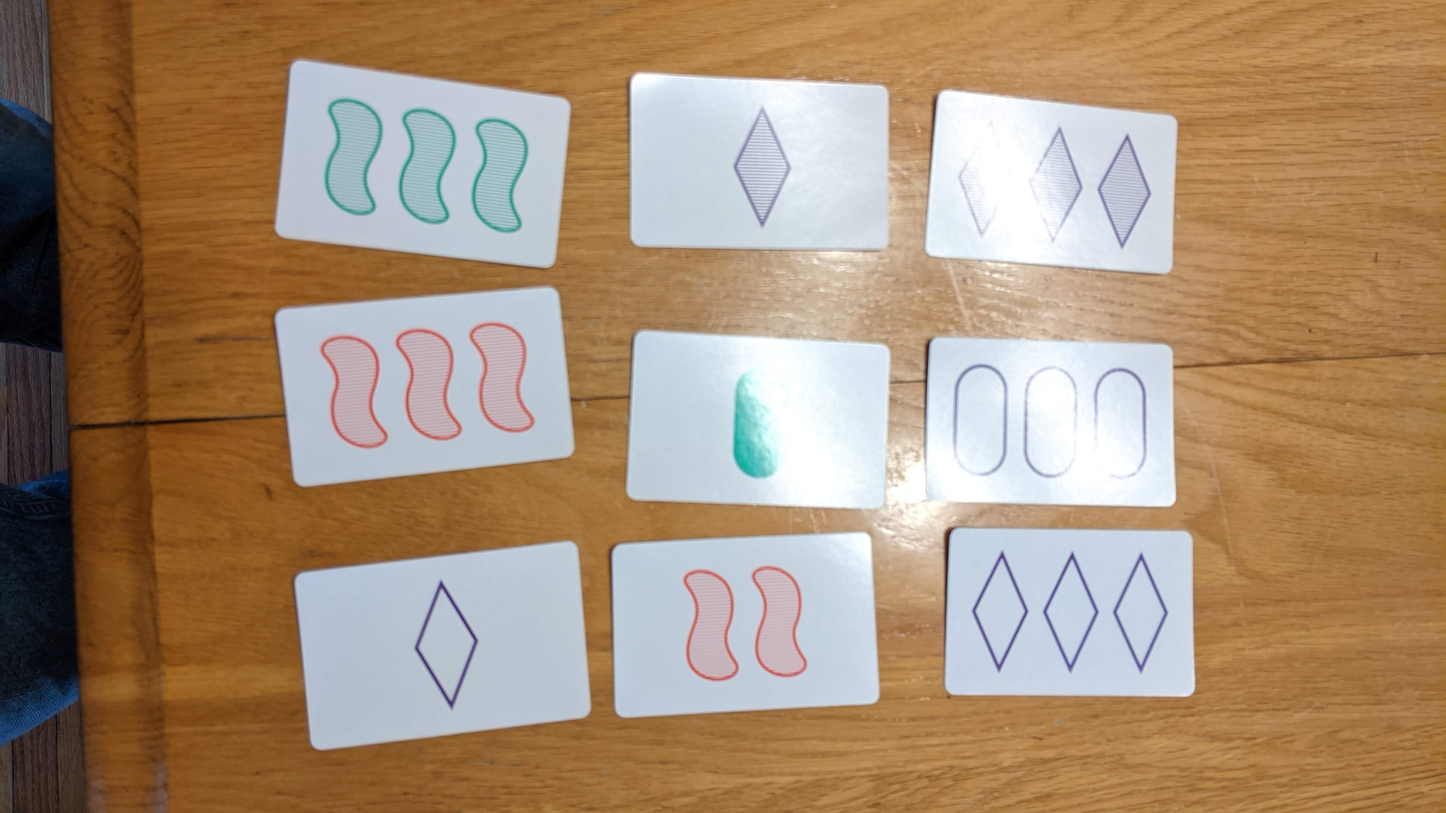card: (274, 58, 571, 268), (294, 542, 593, 749), (273, 286, 572, 487), (611, 533, 880, 717), (624, 330, 893, 510), (925, 89, 1179, 274), (629, 73, 891, 251), (923, 336, 1180, 509), (944, 527, 1199, 697)
